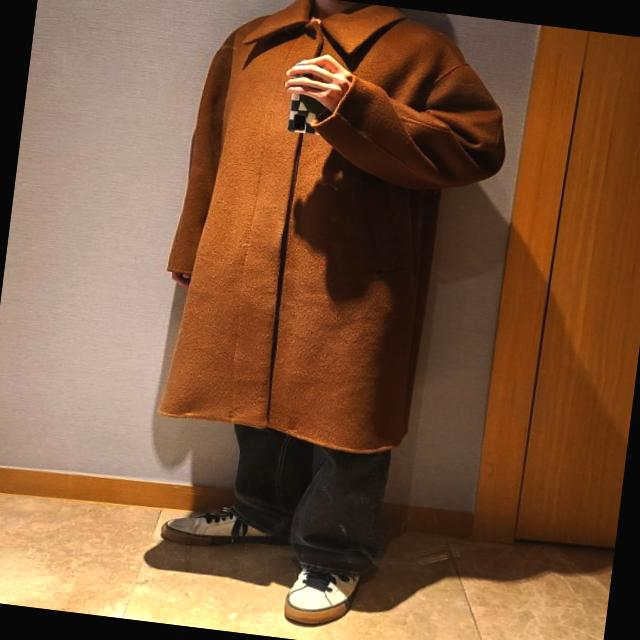coat: (146, 0, 523, 470)
denimpants: (209, 420, 392, 580)
